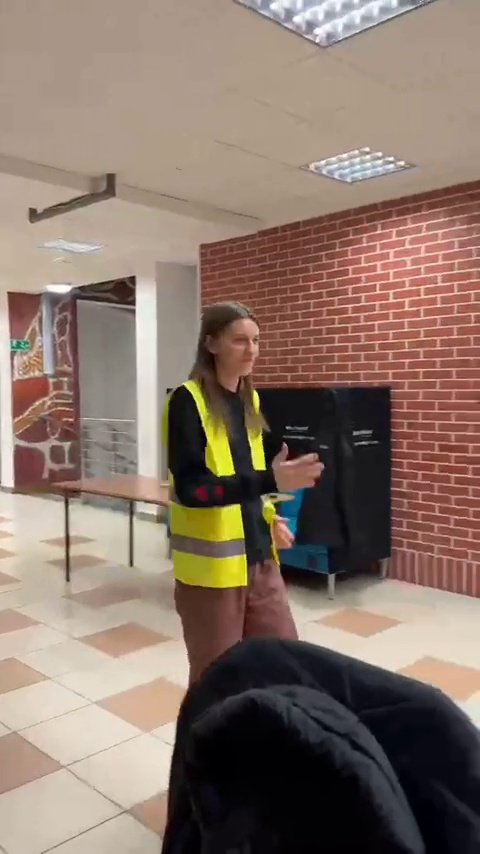vest: (162, 289, 325, 637)
